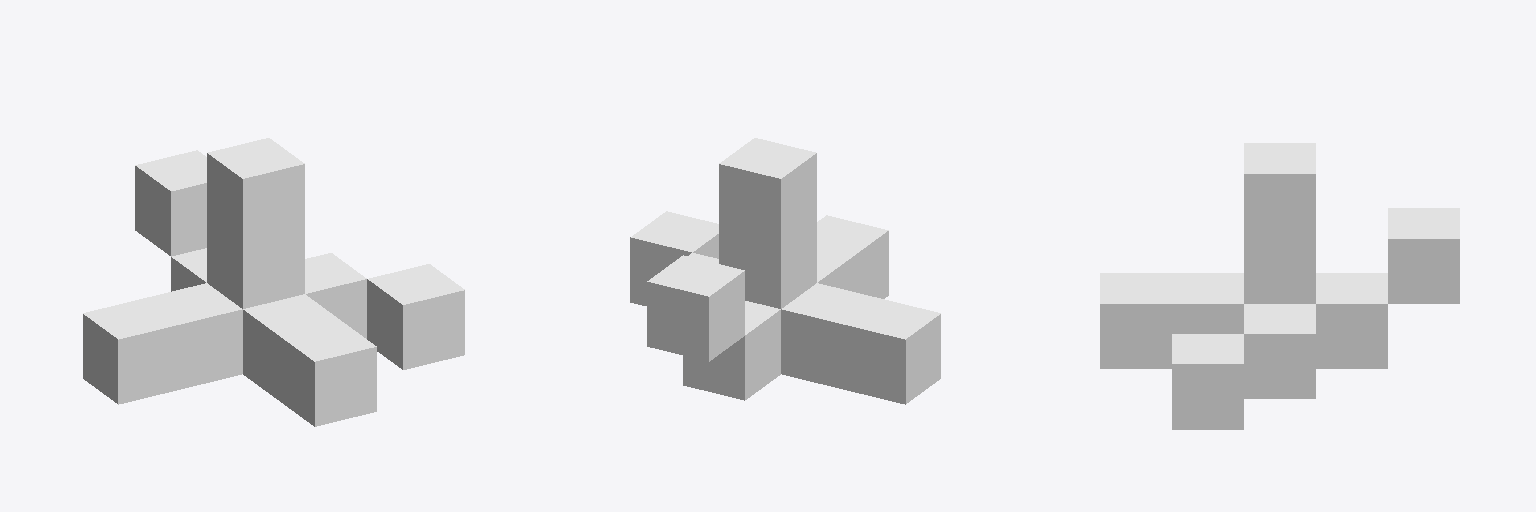
Rendered from banan2.obj.
3 renders of one model, left to right at view 1: azimuth 30°, elevation 25°; view 2: azimuth 150°, elevation 25°; view 3: azimuth 270°, elevation 25°, orthographic.
Visible parts, largest first — view 1: object 1; view 2: object 1; view 3: object 1.
Boxes of the visible parts, <box> form: object 1: <box>83,138,464,426</box>; object 1: <box>630,138,940,404</box>; object 1: <box>1100,143,1459,429</box>.
Bounding box in the file's own units: 0.5 × 0.3 × 0.5.